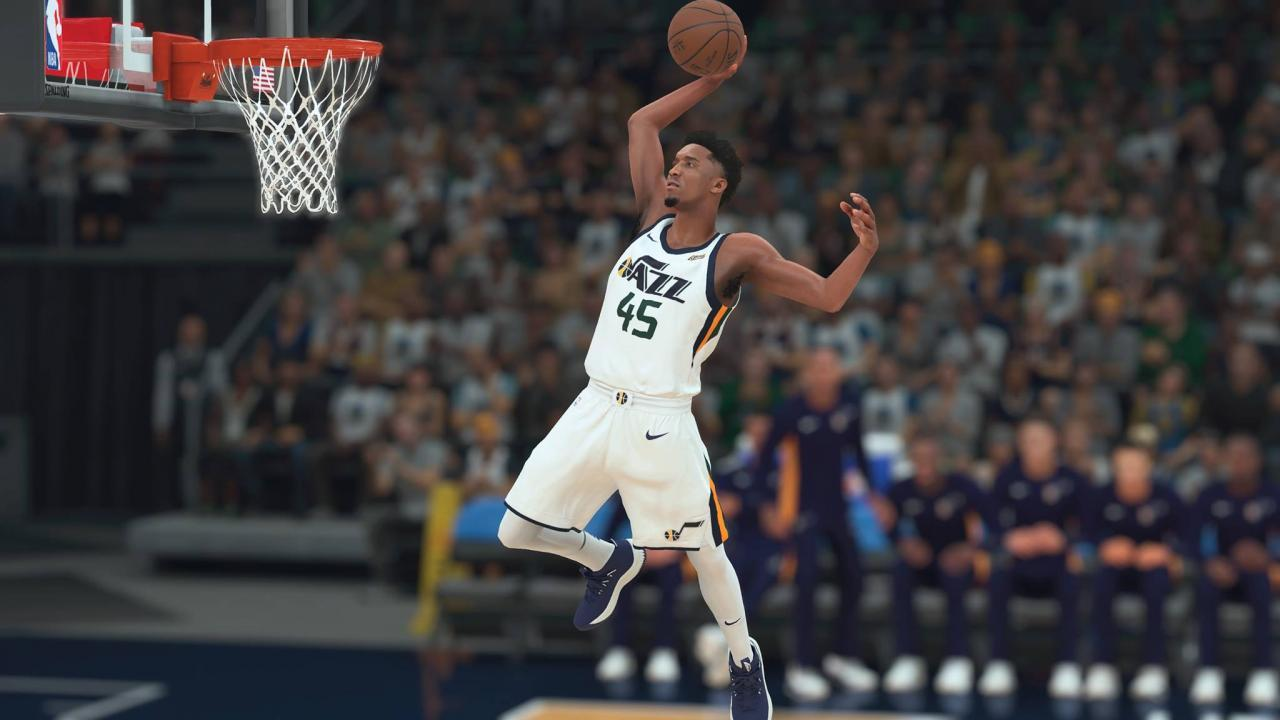ball: (666, 1, 745, 79)
